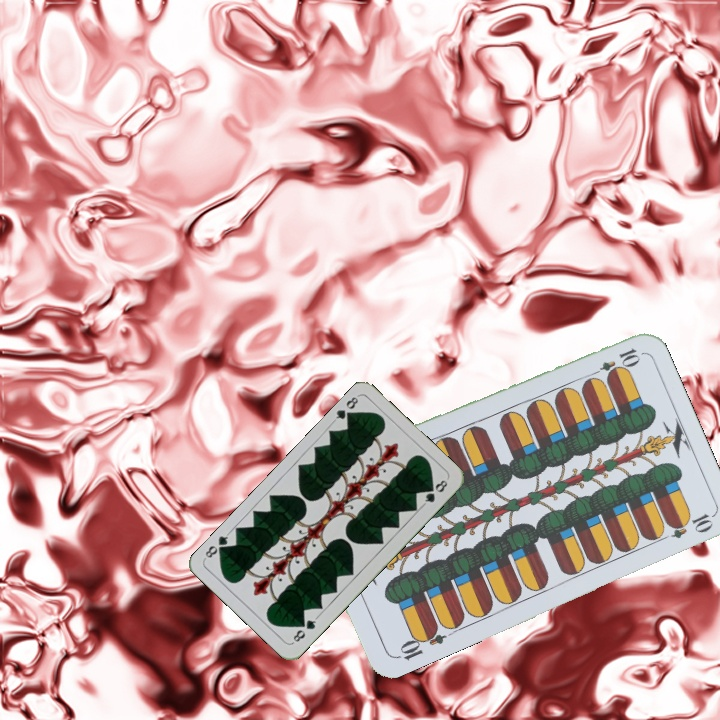E10: (392, 622, 448, 663), (585, 344, 642, 381)
G8: (329, 391, 361, 425), (288, 613, 320, 646)
